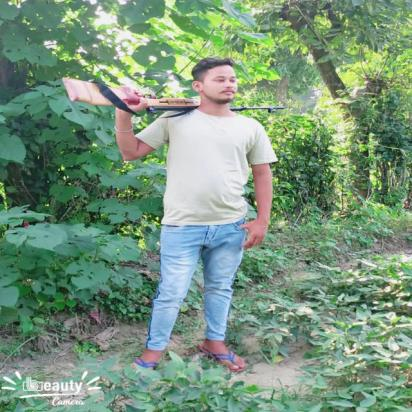Gun: (61, 75, 287, 114)
